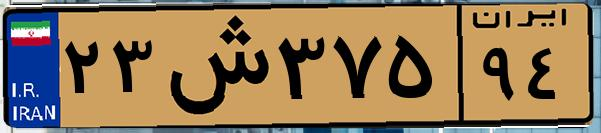2: (57, 26, 110, 100)
3: (270, 28, 330, 110), (110, 28, 158, 98)
4: (525, 38, 570, 115)
5: (385, 28, 445, 110)
7: (330, 28, 385, 110)
9: (475, 38, 525, 113)
ش: (158, 12, 270, 120)
